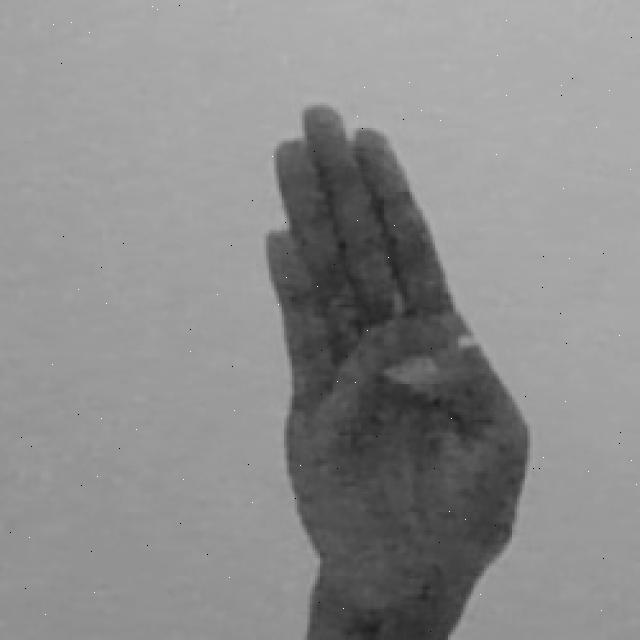B: (264, 100, 532, 640)
